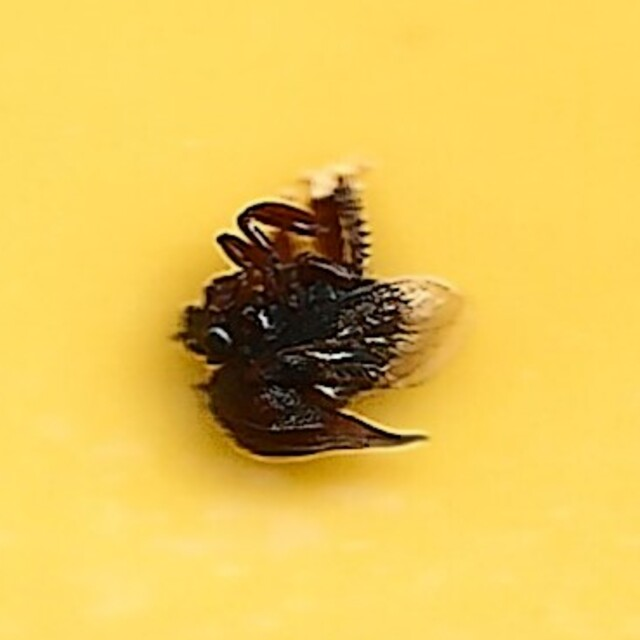Hemiptera: (173, 177, 467, 463)
